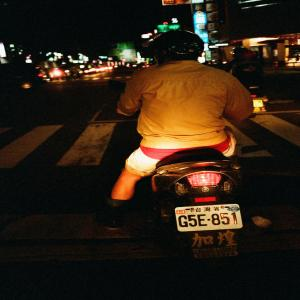Vehicle-registration-plate: (174, 208, 245, 238)
